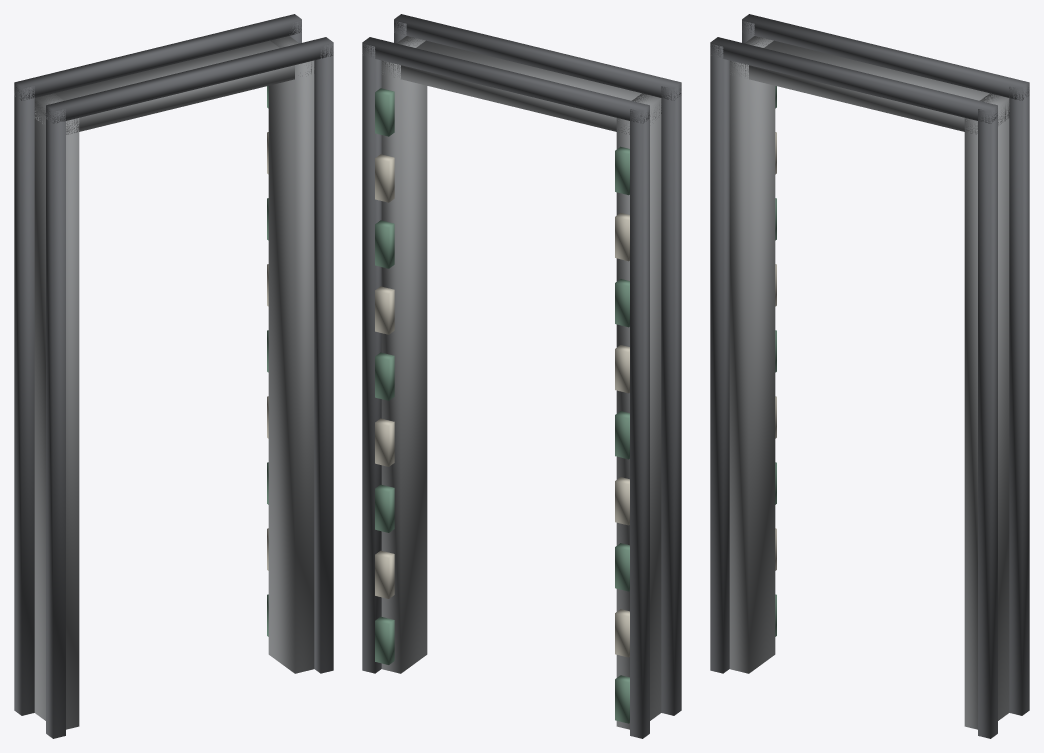
File: doorway_tile_return_w76_h200_d16.glb
3 renders of one model, left to right at view 1: azimuth 30°, elevation 25°; view 2: azimuth 150°, elevation 25°; view 3: azimuth 330°, elevation 25°, orthographic.
Parts seen in each view (by area): view 1: world; view 2: world; view 3: world.
Boxes of the visible parts, left/top/right/bottom form: world: left=14, top=14, right=333, bottom=738; world: left=362, top=14, right=681, bottom=738; world: left=710, top=14, right=1029, bottom=738.
Size of the model in its own units: 0.9868 by 2.11 by 0.2407.
